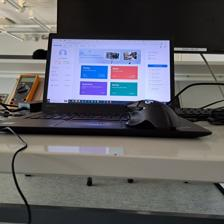mouse: (124, 98, 180, 132)
